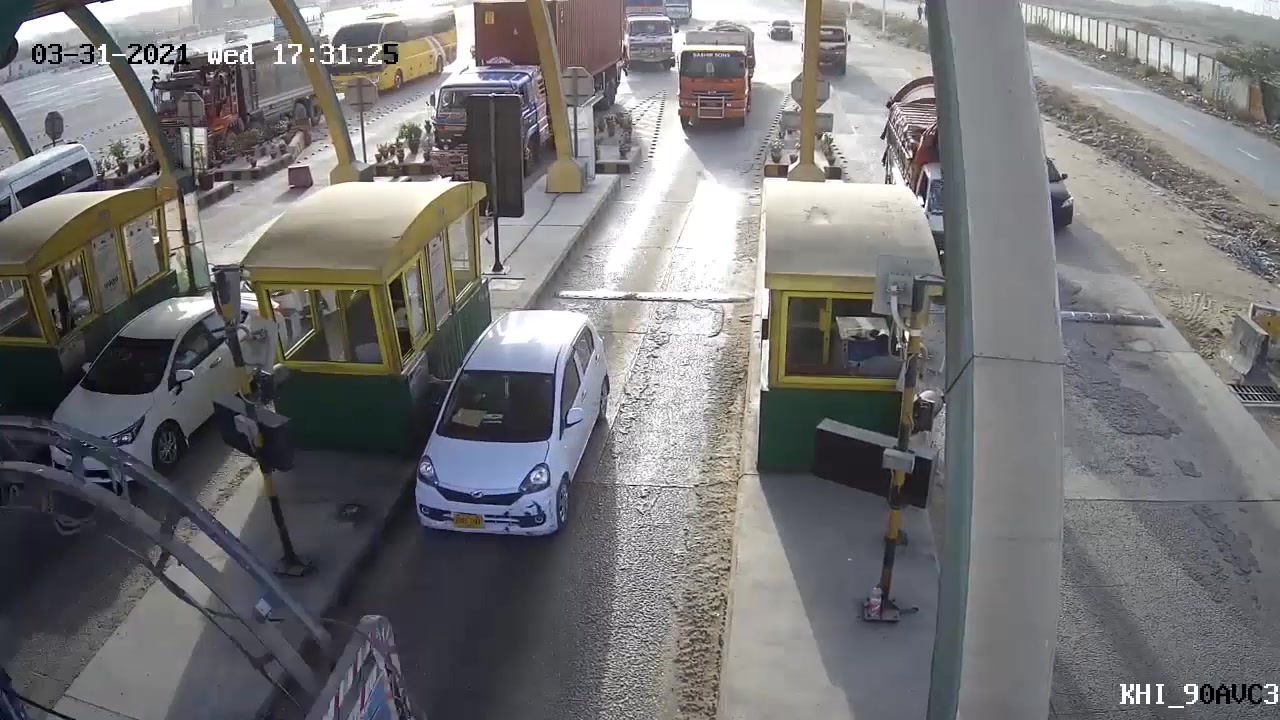F5: (407, 308, 613, 548)
